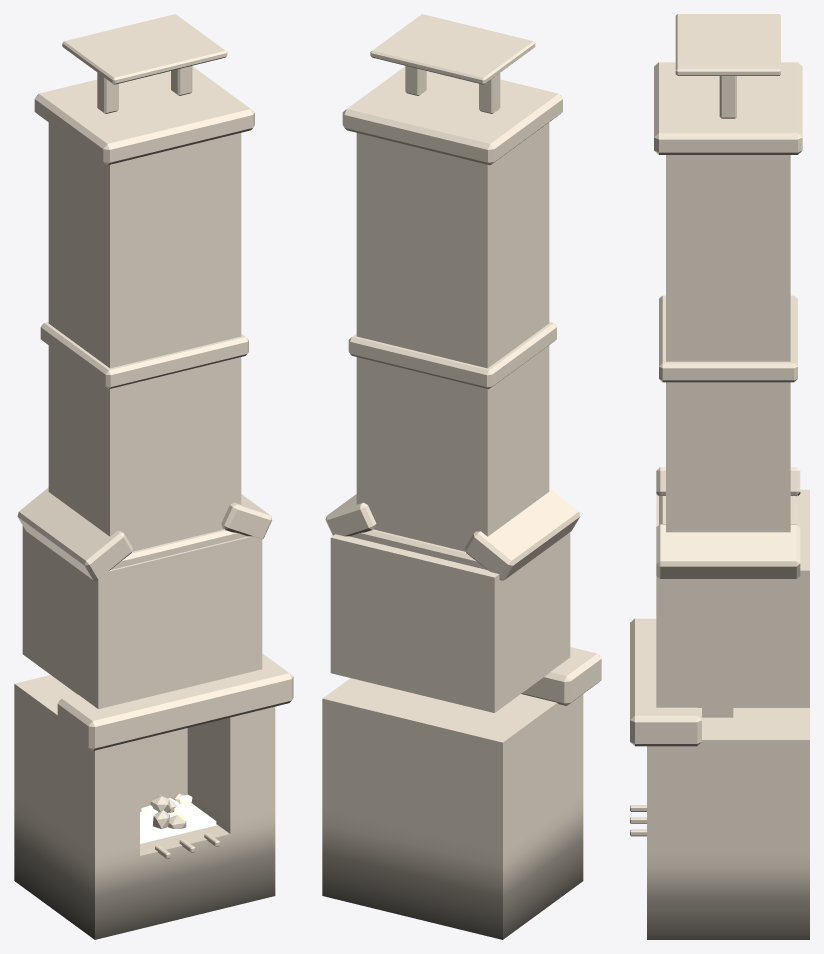
Rendered from SM_VK_Smithy_Chimney.fbx.
3 renders of one model, left to right at view 1: azimuth 30°, elevation 25°; view 2: azimuth 150°, elevation 25°; view 3: azimuth 270°, elevation 25°, orthographic.
Visible parts, largest first — view 1: SM_VK_Smithy_Chimney.001; view 2: SM_VK_Smithy_Chimney.001; view 3: SM_VK_Smithy_Chimney.001.
Part boxes in pixels (box(x1,y1,x2,y2)): SM_VK_Smithy_Chimney.001: box(14, 14, 293, 939); SM_VK_Smithy_Chimney.001: box(322, 14, 601, 939); SM_VK_Smithy_Chimney.001: box(630, 14, 809, 939).
Size of the model in its own units: 2.5 by 9.82 by 1.88.
